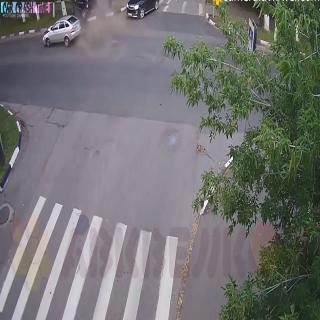Vehicle-Crash_Detected: (65, 11, 126, 48)
